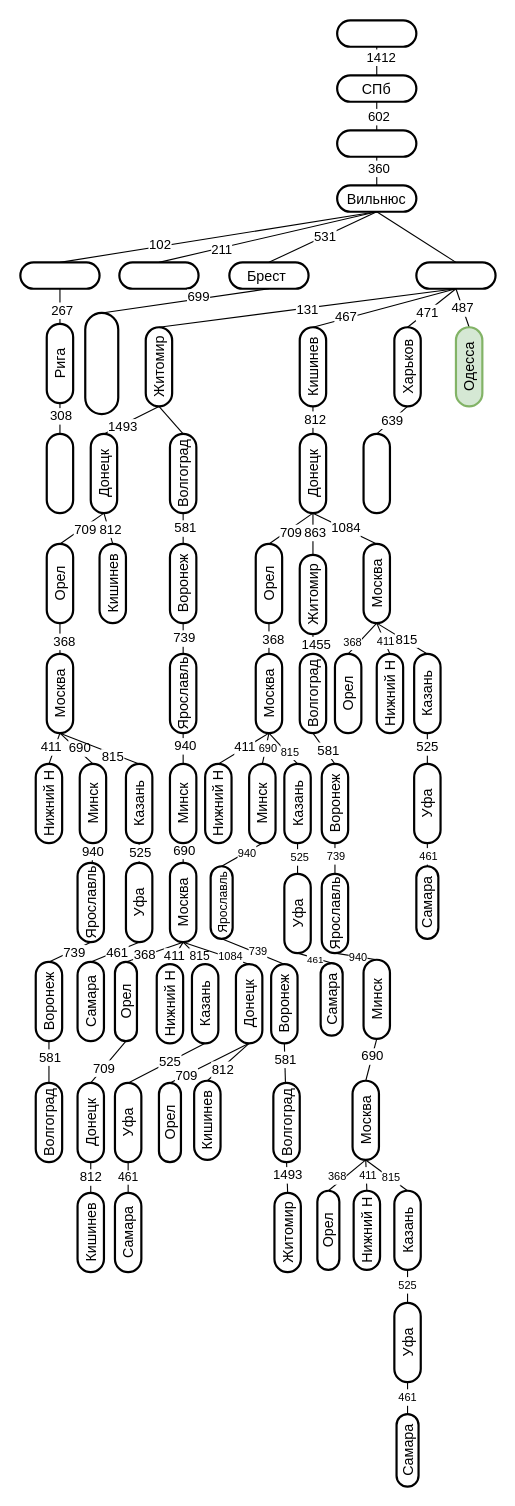
Some shapes in this 515 by 1506 pixel diagram are drawn without their labels. The box of each missing label's shape, as (x1, y1, x2, y2) in pixels:
Витебск: (336, 129, 417, 157)
Даугавпилс: (118, 261, 199, 289)
Калининград: (84, 311, 119, 415)
Каунас: (19, 261, 100, 289)
Киев: (415, 261, 496, 289)
Мурманск: (336, 19, 417, 47)
Симферополь: (362, 432, 391, 514)
Таллинн: (45, 432, 74, 514)
